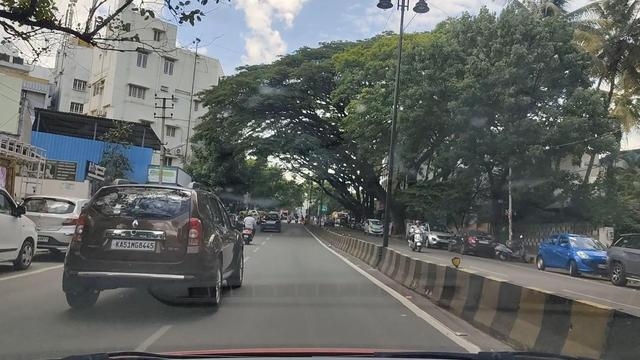LMV: (55, 183, 247, 319)
